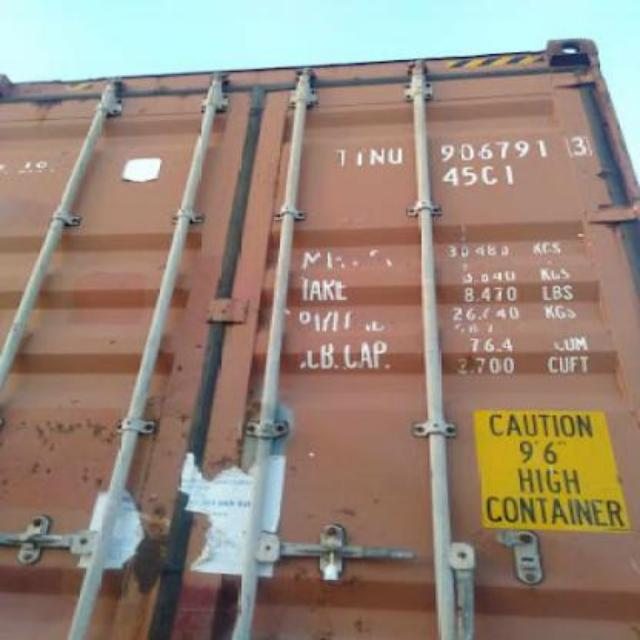0: (458, 142, 474, 162)
1: (534, 139, 550, 161)
3: (564, 134, 594, 160)
6: (478, 142, 494, 162)
7: (494, 139, 511, 161)
9: (438, 144, 456, 164), (513, 140, 531, 160)
I: (354, 148, 366, 170)
N: (370, 146, 386, 168)
T: (334, 144, 348, 168)
U: (386, 146, 404, 166)
